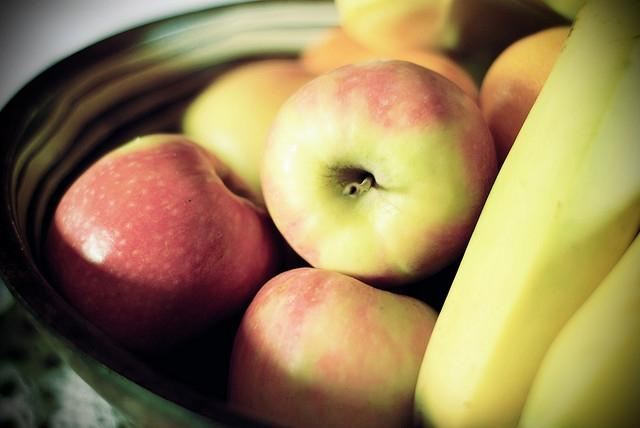apple: (260, 59, 498, 286), (49, 135, 270, 355), (226, 268, 439, 428), (182, 59, 322, 196), (299, 30, 480, 108), (480, 26, 572, 172), (334, 2, 512, 60)
banana: (413, 0, 640, 428), (518, 233, 640, 427), (542, 0, 586, 22)
